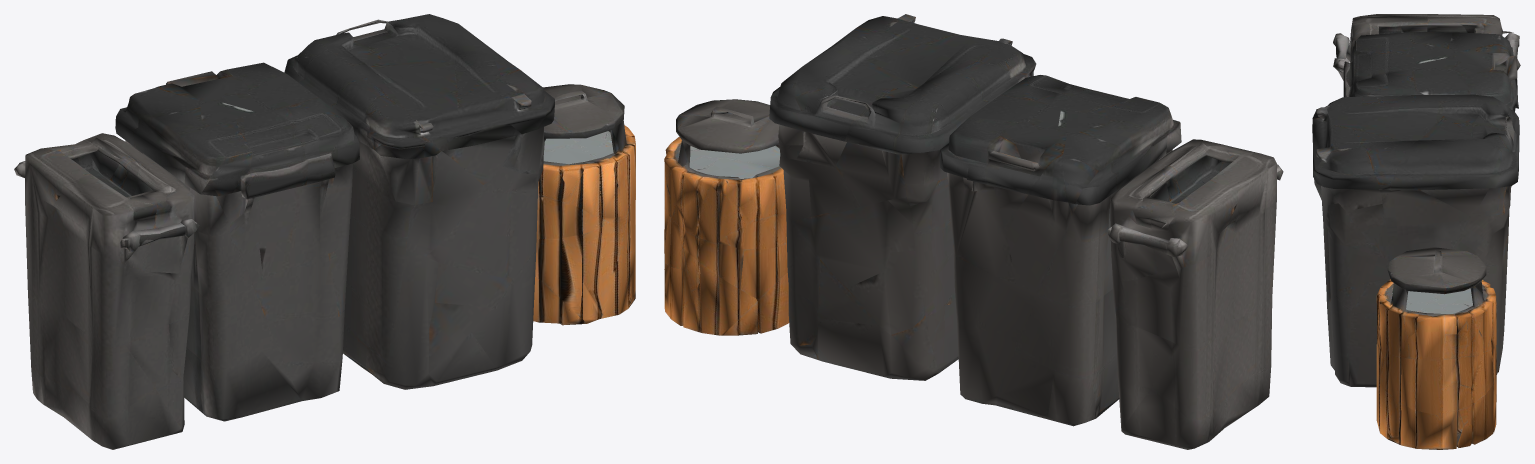
Rendered from bins_lod1.glb.
The picture shows the model from 3 angles, left to right: view 1: azimuth 30°, elevation 25°; view 2: azimuth 150°, elevation 25°; view 3: azimuth 270°, elevation 25°; orthographic projection. The views are drawn at different scales.
Visible parts, largest first — view 1: mesh_node; view 2: mesh_node; view 3: mesh_node.
Part boxes in pixels (x1,y1,x2,y2): mesh_node: (14, 14, 635, 449); mesh_node: (664, 14, 1283, 449); mesh_node: (1312, 14, 1520, 449).
Bounding box in the file's own units: 1.9 × 0.9017 × 0.7126.
1 material, 1 textured.
